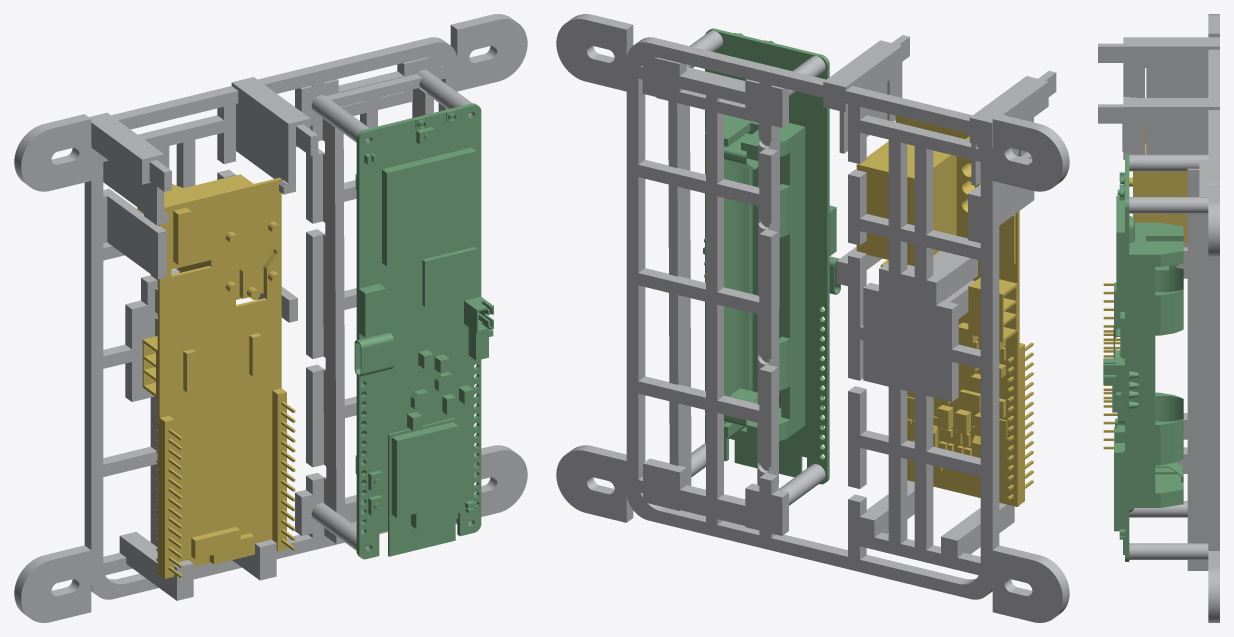
File: lilygo_a7670_simhat_assembly.glb
The picture shows the model from 3 angles, left to right: view 1: azimuth 30°, elevation 25°; view 2: azimuth 150°, elevation 25°; view 3: azimuth 270°, elevation 25°; orthographic projection. The views are drawn at different scales.
Parts seen in each view (by area): view 1: carrier_ref, board_ref, simhat_ref; view 2: carrier_ref, board_ref, simhat_ref; view 3: carrier_ref, board_ref, simhat_ref.
Part boxes in pixels (x1,y1,x2,y2): carrier_ref: [14, 14, 527, 622]; board_ref: [354, 103, 493, 559]; simhat_ref: [137, 174, 295, 578]; carrier_ref: [556, 14, 1069, 622]; board_ref: [703, 28, 840, 484]; simhat_ref: [856, 115, 1033, 506]; carrier_ref: [1098, 14, 1219, 622]; board_ref: [1103, 153, 1183, 561]; simhat_ref: [1103, 97, 1187, 449].
Size of the model in its own units: 137 by 128 by 33.65.
